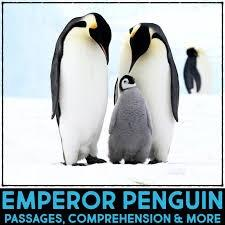emporer: (40, 6, 119, 167), (118, 13, 189, 174)
